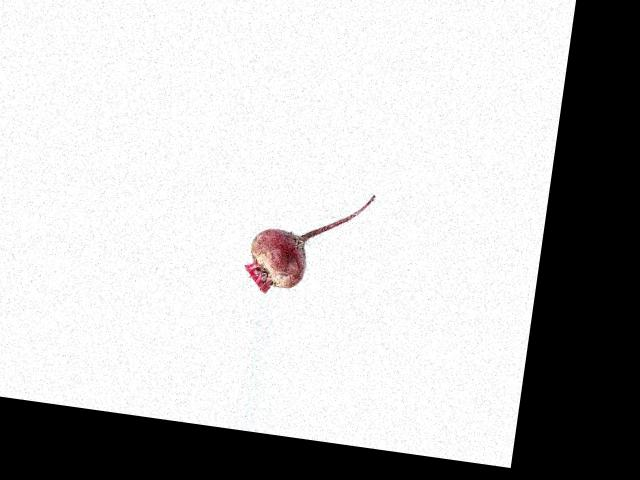beet: (243, 179, 375, 307)
